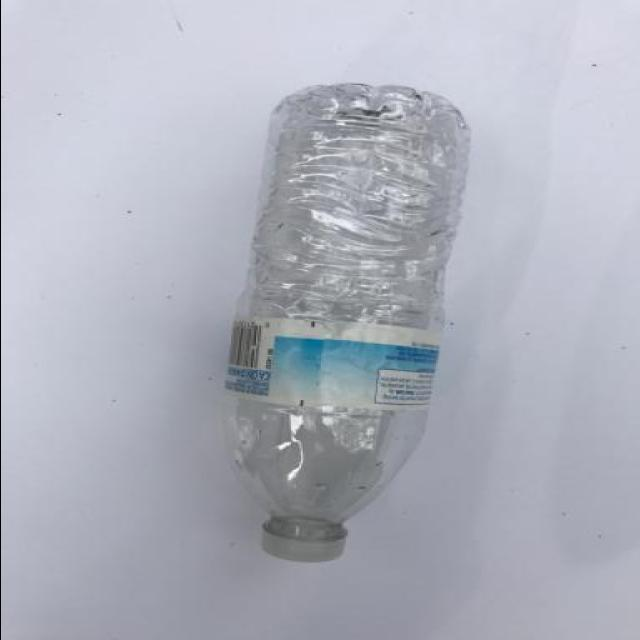PET: (218, 82, 472, 564)
